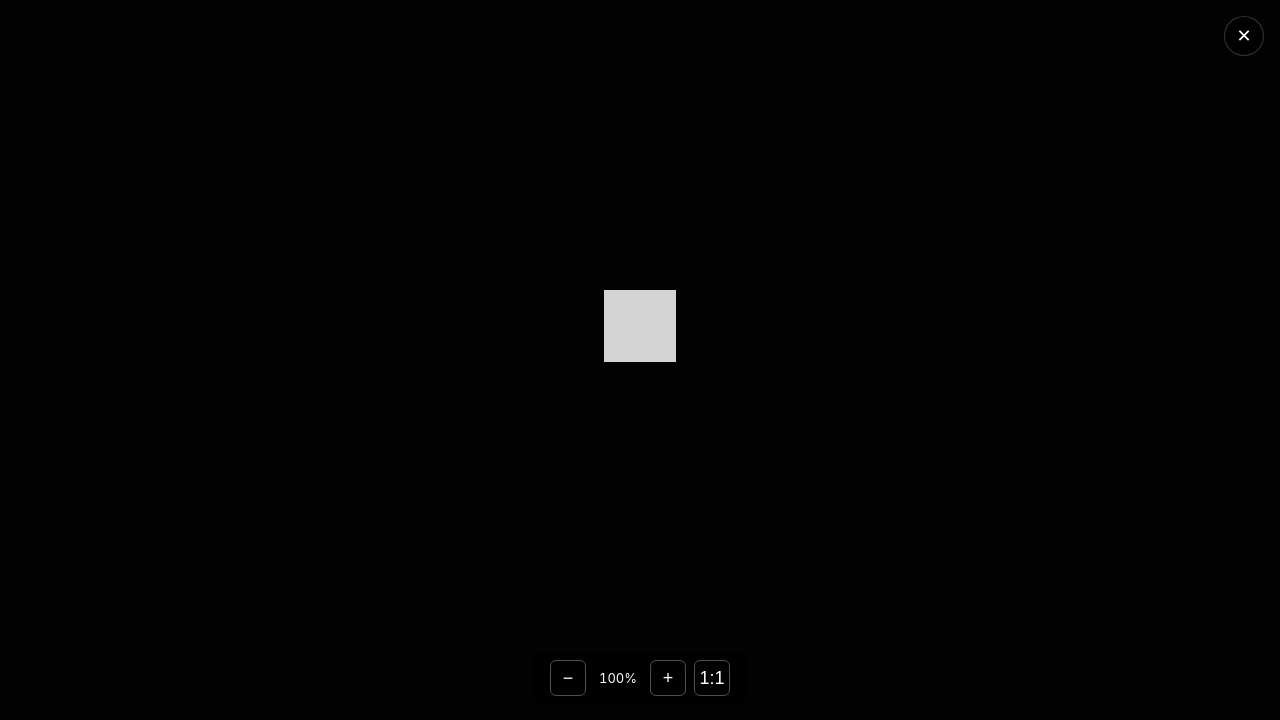
Scenario: ImageViewer › resets zoom when 1:1 button clicked
Click the button named "확대" at (668, 678), box top-left (650, 660), bottom-right (686, 696)
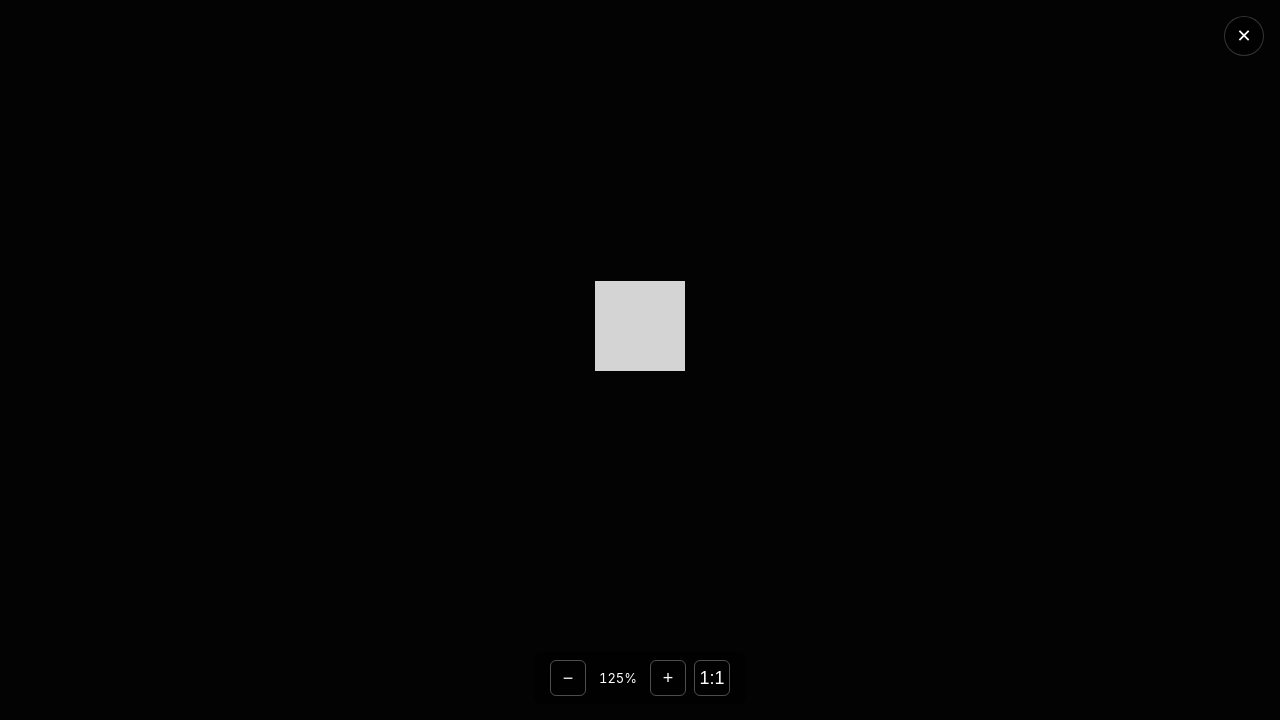
Click the button named "확대" at (668, 678), box top-left (650, 660), bottom-right (686, 696)
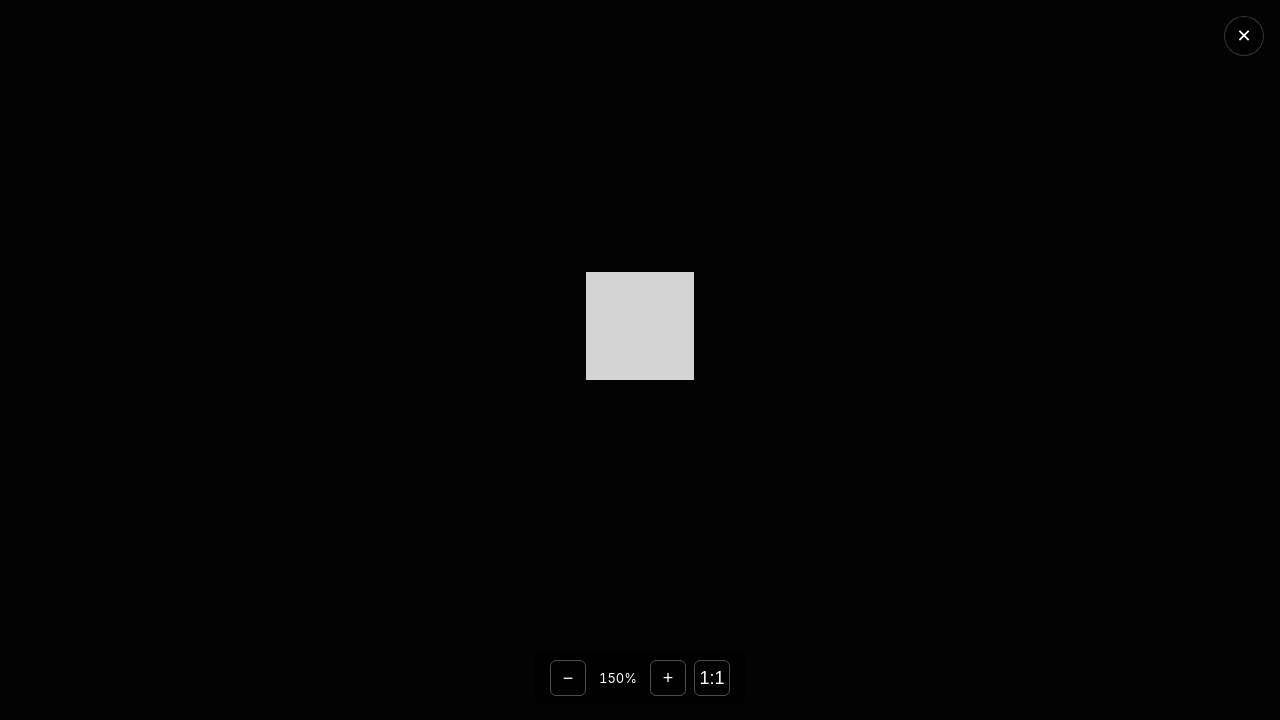
Expected: the text "150%" is shown, top-left (599, 670), bottom-right (637, 686)
Click the button named "원래 크기" at (712, 678), box top-left (694, 660), bottom-right (730, 696)
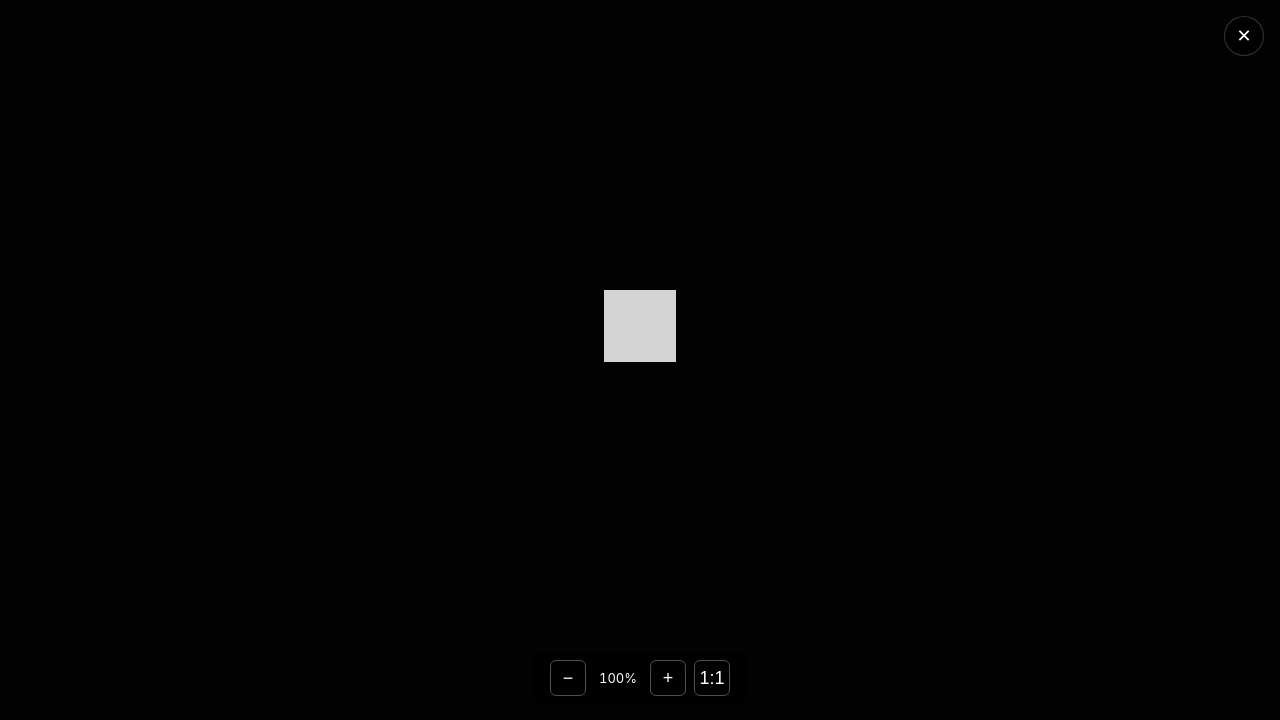
Expected: the text "100%" is shown, top-left (599, 670), bottom-right (637, 686)
